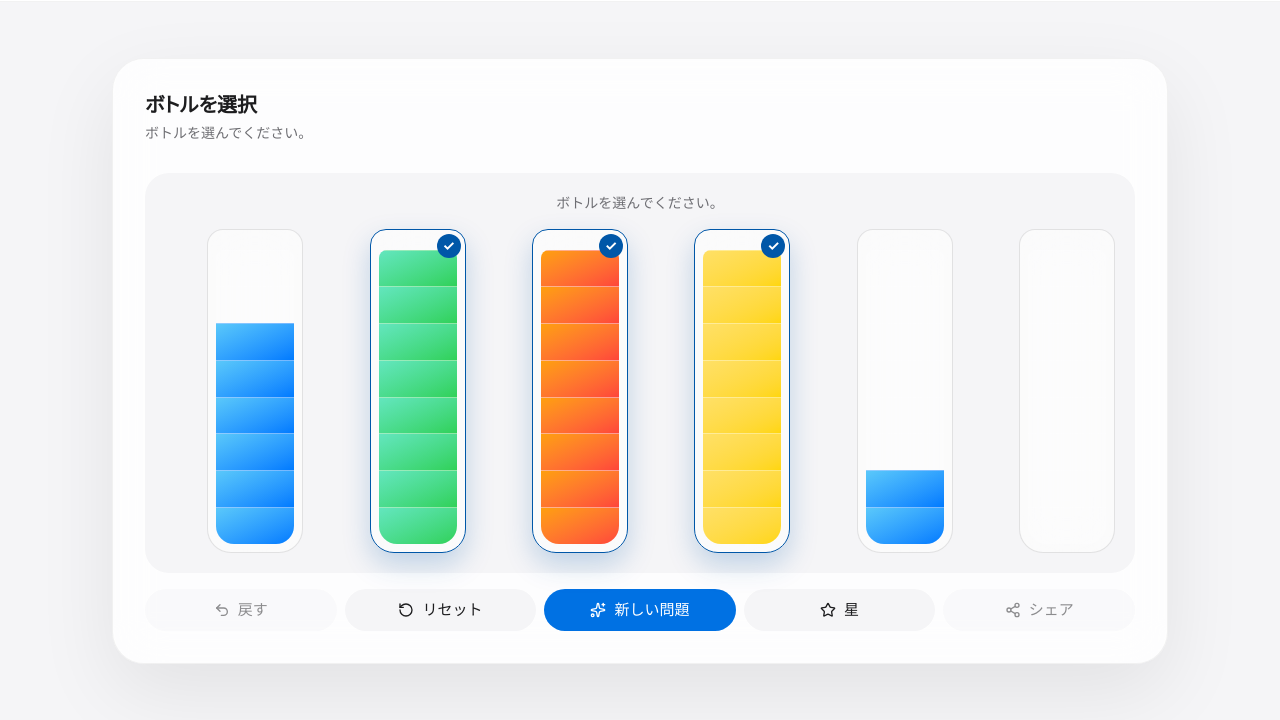
Test: ColorSortPuzzlePage › opens the result actions when the final move solves the board
(page scrolled)
What coordinates should you click on to do the following:
click the button named "ボトル 1"
I would click on:
 (255, 391)
Its box is [207, 229, 303, 553].
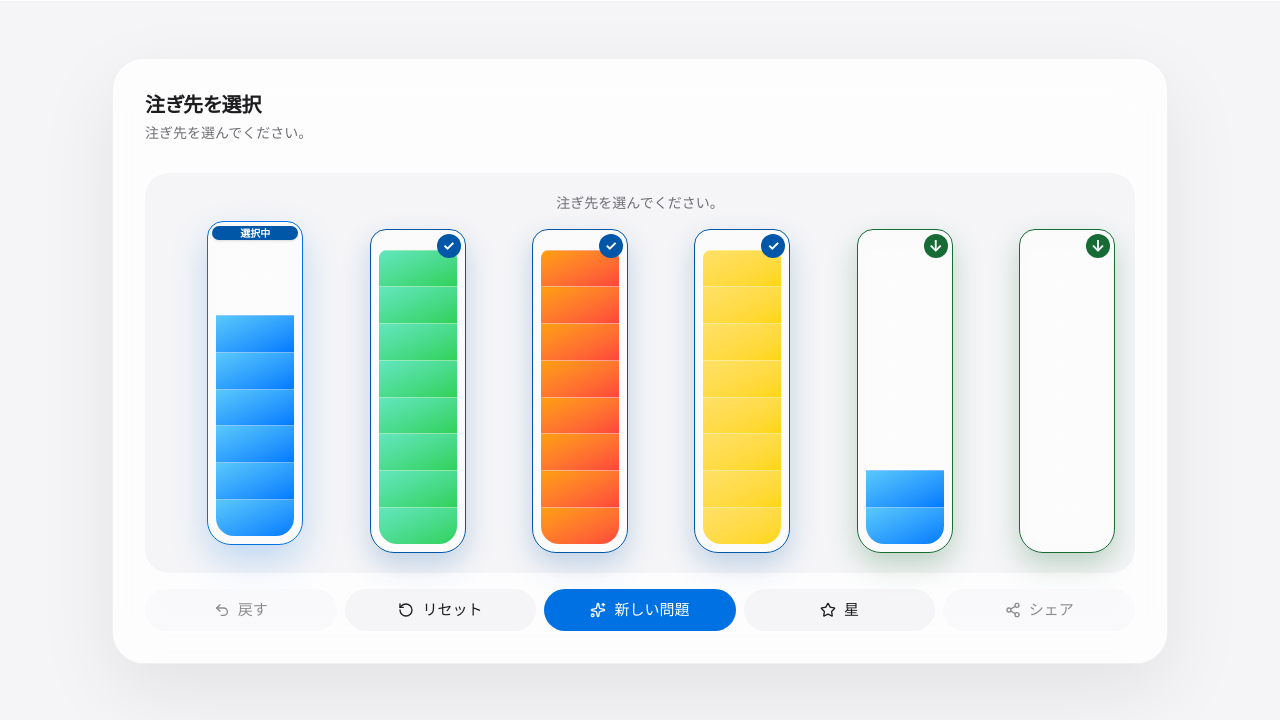
What coordinates should you click on to do the following:
click the button named "ボトル 5"
I would click on:
 (905, 391)
Its box is [857, 229, 953, 553].
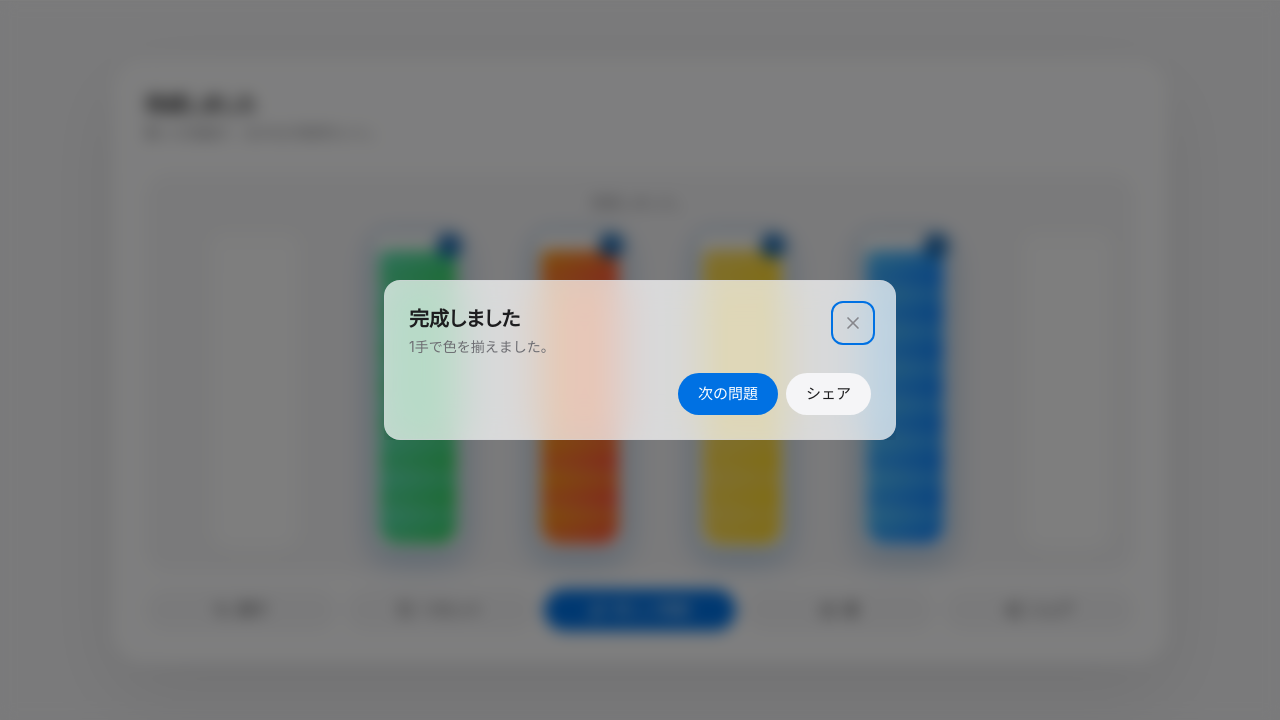
Expected: the dialog named "完成しました" is shown, [384, 280, 896, 440]
Expected: the 1st button named "次の問題" is enabled, [678, 373, 778, 415]
Expected: the 2nd button named "シェア" is enabled, [786, 373, 871, 415]
